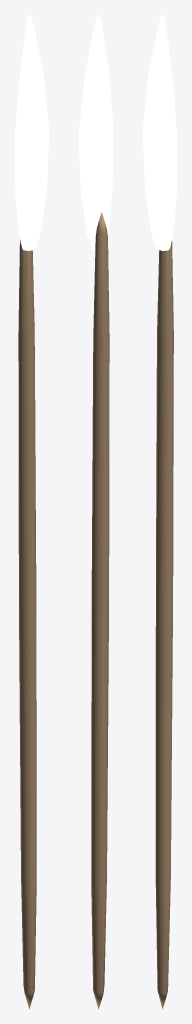
File: spear.glb
3 views of the same model, side by side, from view 1: azimuth 30°, elevation 25°; view 2: azimuth 210°, elevation 25°; view 3: azimuth 330°, elevation 25° (orthographic).
Parts seen in each view (by area): view 1: Shaft, Tip; view 2: Shaft, Tip; view 3: Shaft, Tip.
Boxes of the visible parts, <box> form: Shaft: <box>18,240,36,1009</box>; Tip: <box>14,14,49,250</box>; Shaft: <box>91,212,109,1009</box>; Tip: <box>78,14,113,250</box>; Shaft: <box>155,241,173,1009</box>; Tip: <box>142,14,177,250</box>.
Bounding box in the file's own units: 0.0614 × 1.68 × 0.0367.
